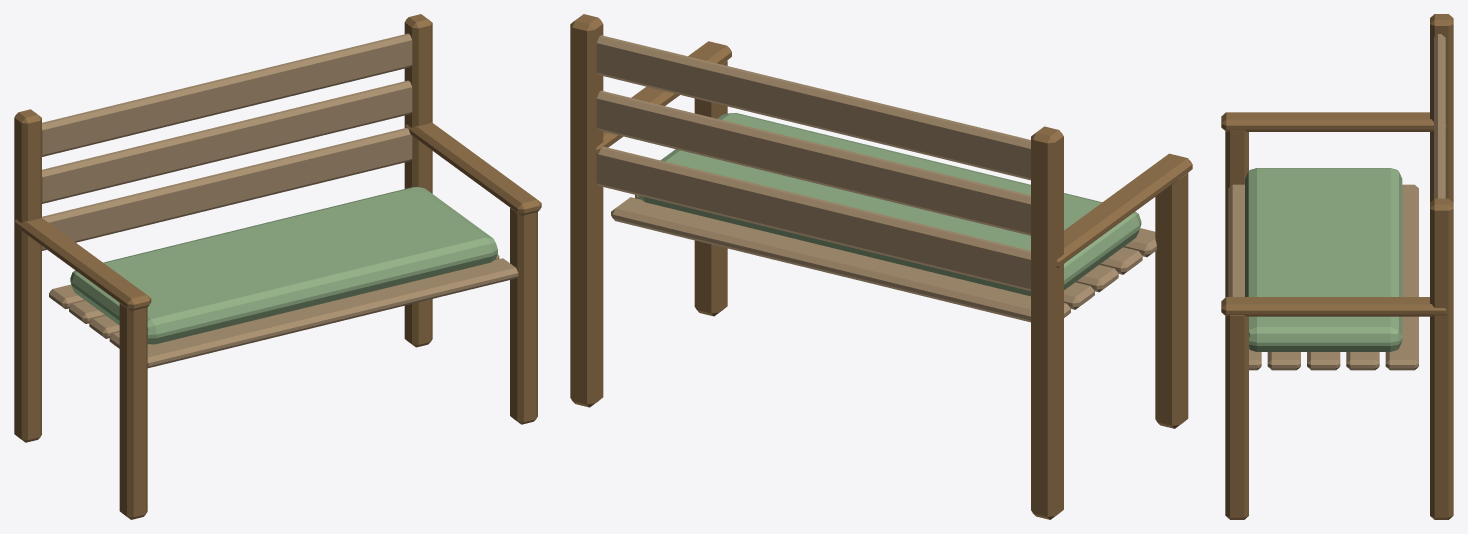
File: low_bench.glb
3 renders of one model, left to right at view 1: azimuth 30°, elevation 25°; view 2: azimuth 150°, elevation 25°; view 3: azimuth 270°, elevation 25°, orthographic. The views are drawn at different scales.
Parts seen in each view (by area): view 1: low_bench_Body; view 2: low_bench_Body; view 3: low_bench_Body.
Part boxes in pixels (bbox=[...]): low_bench_Body: bbox=[14, 14, 541, 519]; low_bench_Body: bbox=[570, 14, 1192, 519]; low_bench_Body: bbox=[1221, 14, 1453, 519].
Size of the model in its own units: 1.2 by 0.9 by 0.6.
